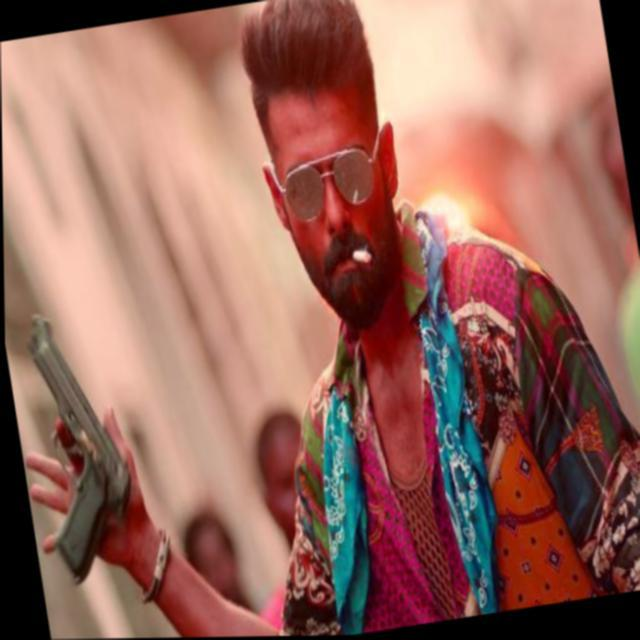weapon: (10, 291, 154, 599)
